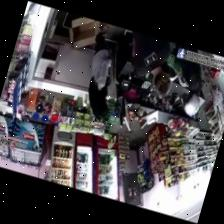person: (133, 31, 171, 94), (89, 25, 111, 118), (176, 58, 203, 115)
